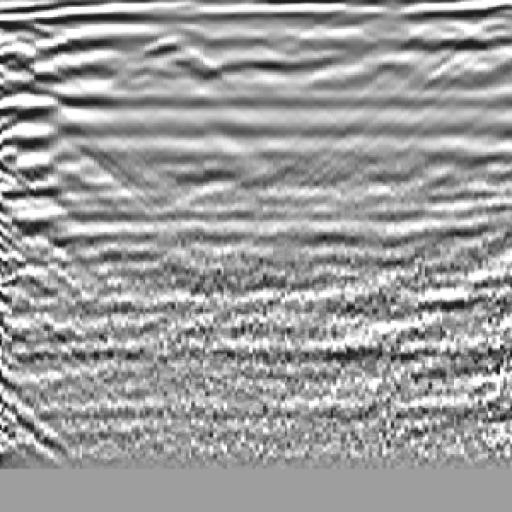metalic: (1, 37, 119, 336)
